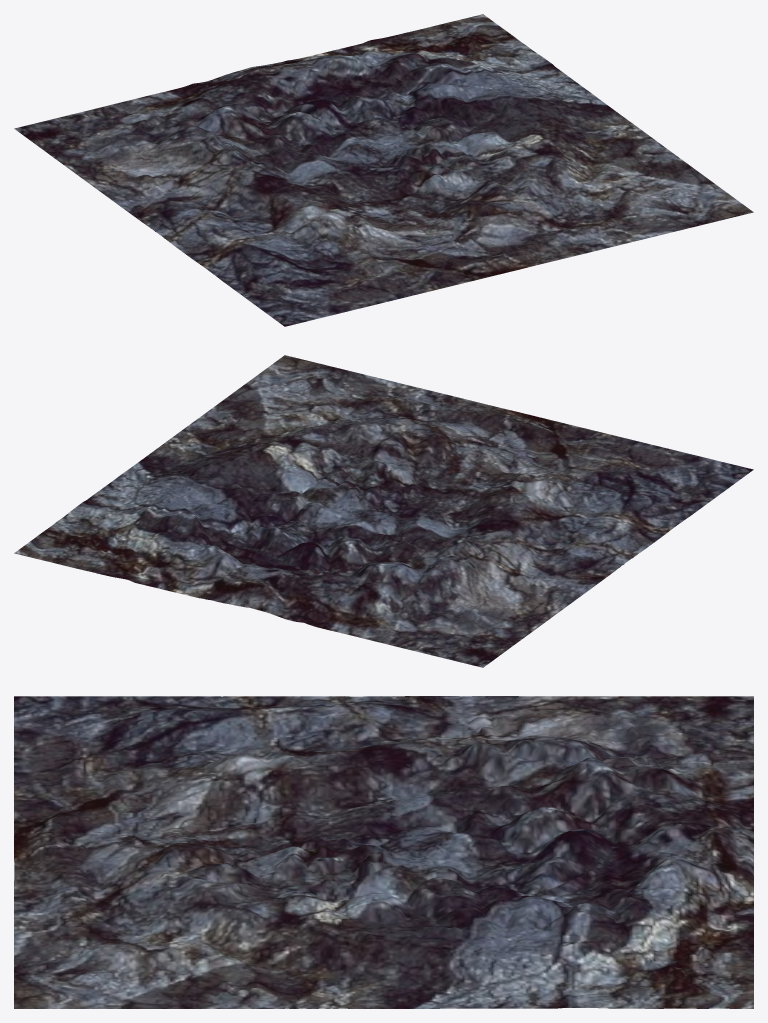
File: Terrain.glb
The picture shows the model from 3 angles, top to bottom: view 1: azimuth 30°, elevation 25°; view 2: azimuth 150°, elevation 25°; view 3: azimuth 270°, elevation 25°; orthographic projection. The views are drawn at different scales.
Visible parts, largest first — view 1: Cube; view 2: Cube; view 3: Cube.
Boxes of the visible parts, <box> form: Cube: <box>14,14,753,326</box>; Cube: <box>14,355,753,667</box>; Cube: <box>14,696,753,1008</box>.
Size of the model in its own units: 200 by 9.8 by 200.
1 material, 1 textured.
